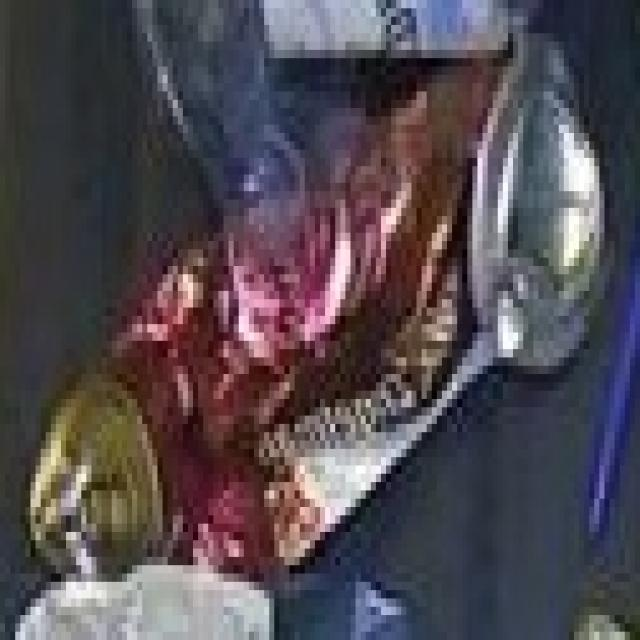litter: (15, 5, 629, 636)
